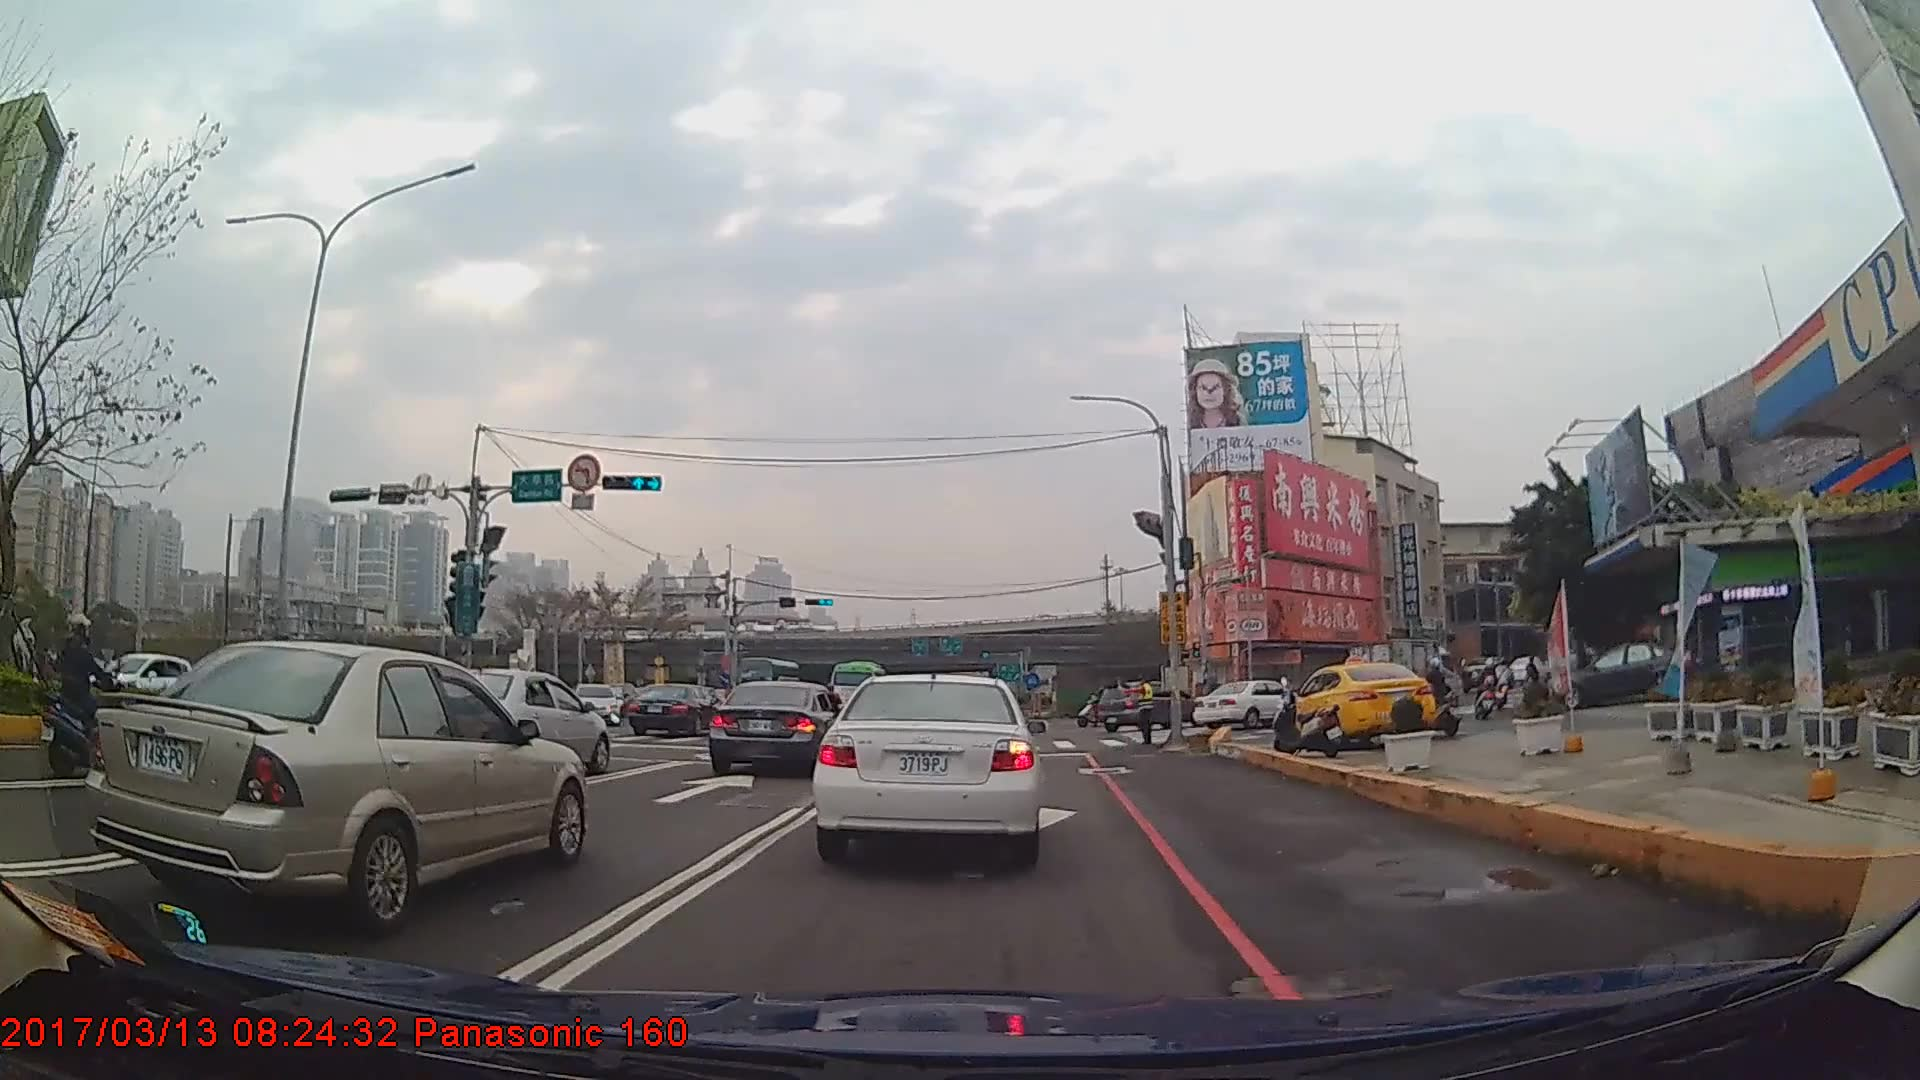pedestrian: (1117, 675, 1157, 748)
rider: (39, 614, 137, 778), (1418, 661, 1461, 740), (1475, 658, 1499, 720)
vehicle: (91, 639, 588, 928), (814, 664, 1044, 866), (419, 668, 609, 776), (705, 677, 848, 779), (1283, 660, 1437, 751), (1552, 641, 1695, 708), (1344, 638, 1461, 709), (86, 650, 201, 710), (1096, 679, 1207, 731), (1192, 680, 1302, 731), (628, 684, 722, 738), (829, 657, 890, 713)
